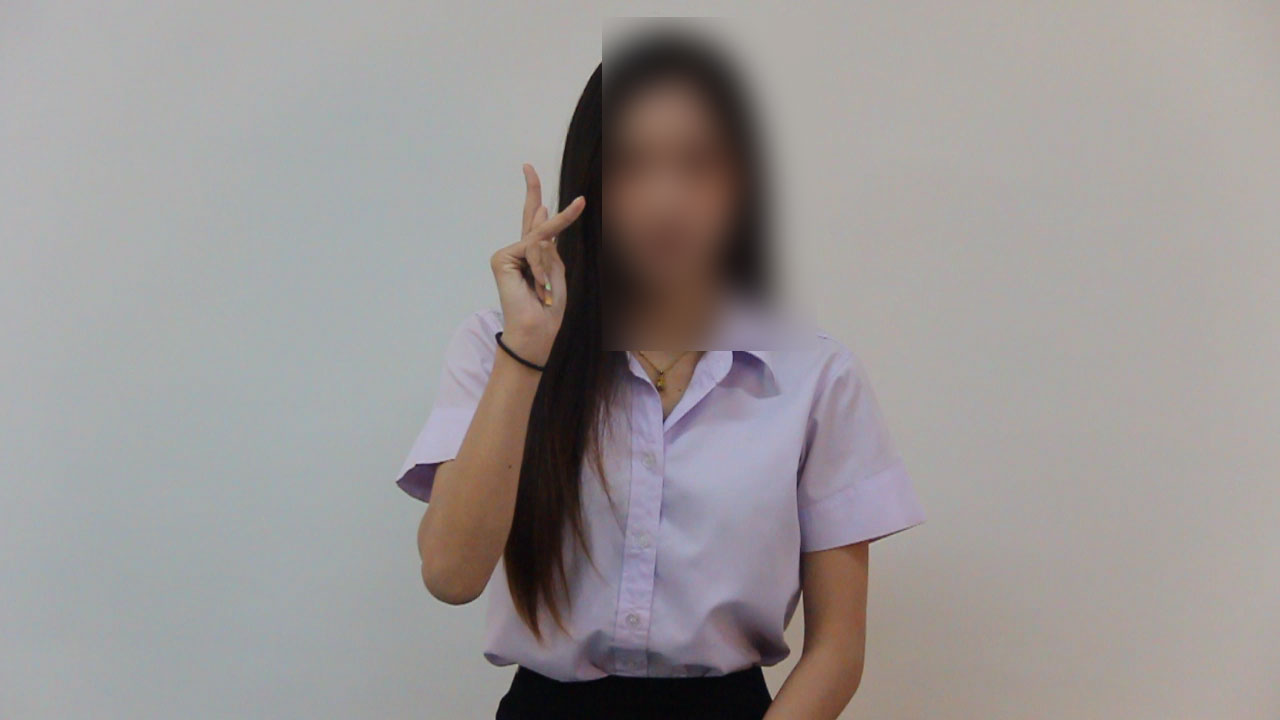ko: (479, 149, 592, 358)
